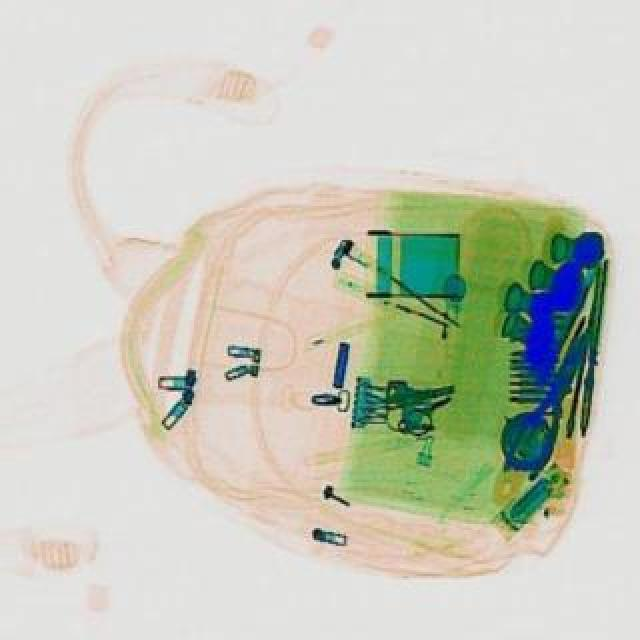wrench: (498, 332, 600, 482)
